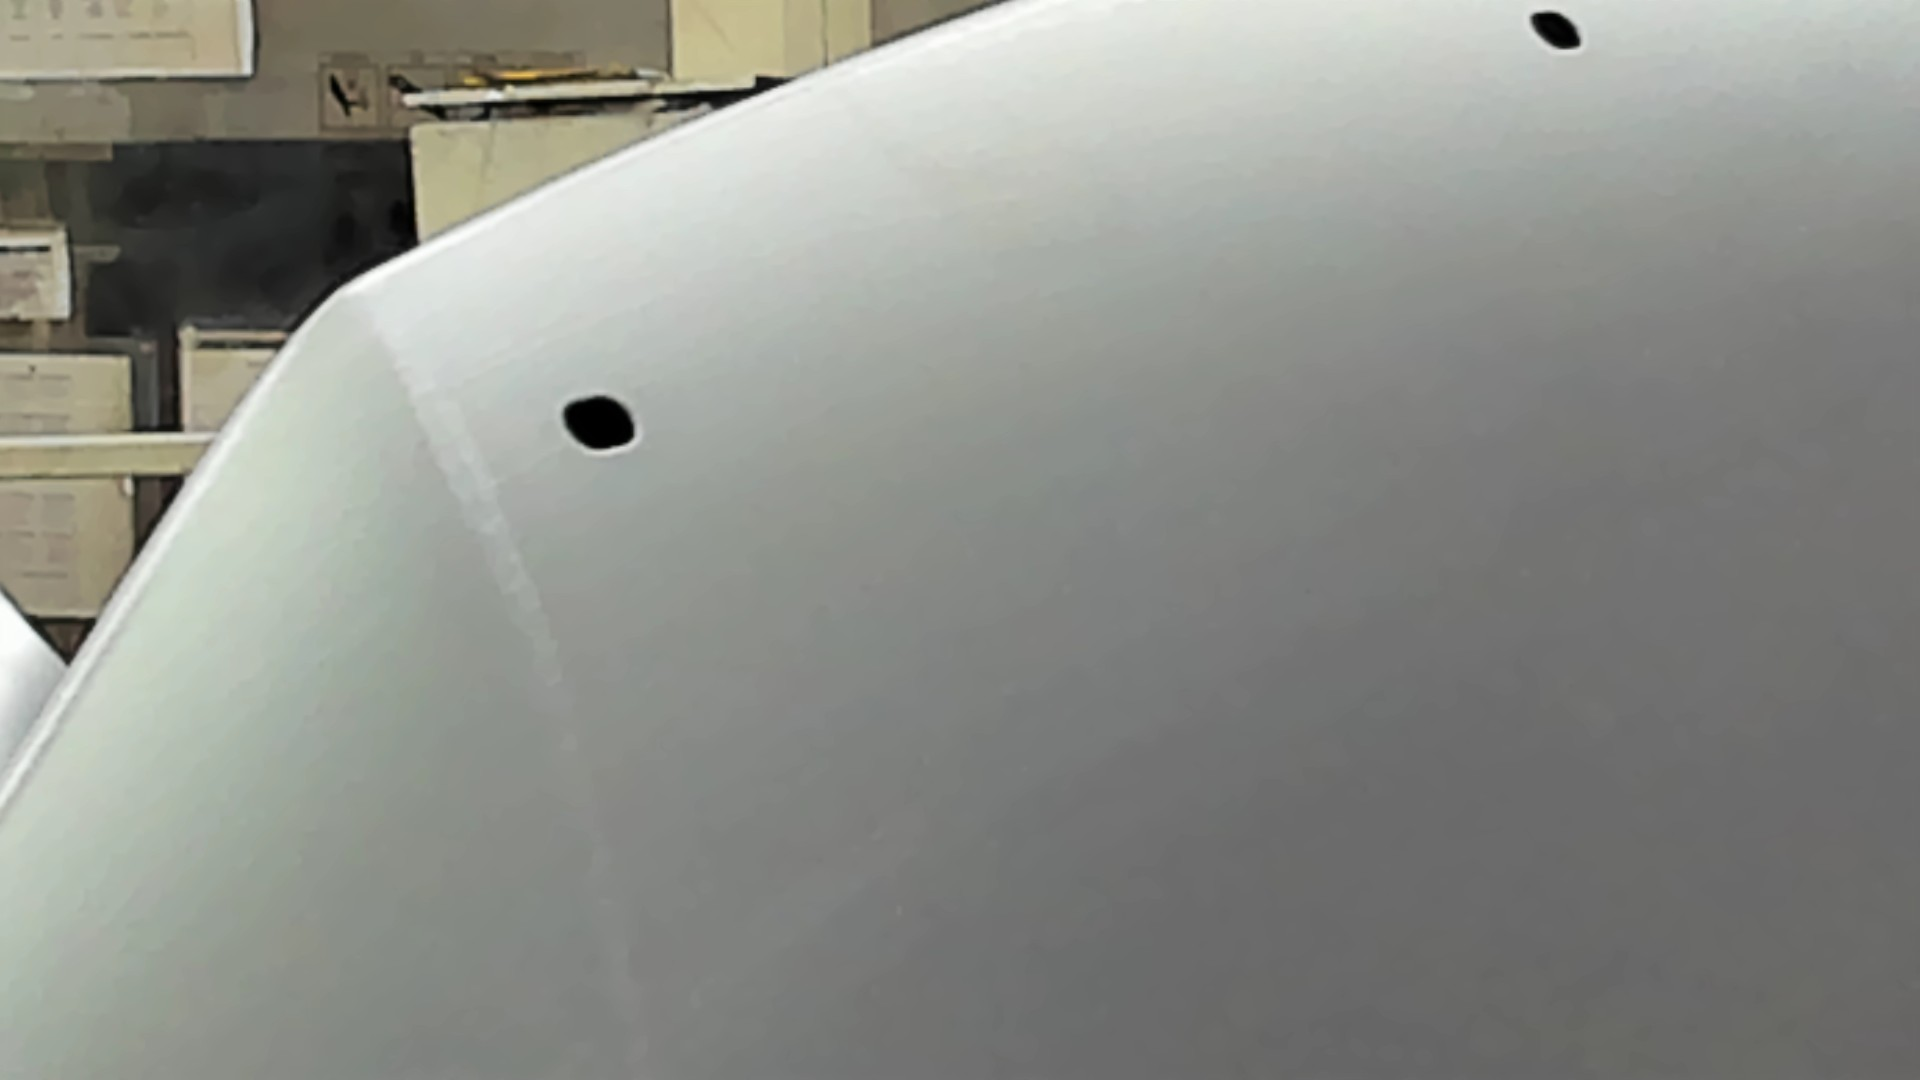amorfo: (554, 386, 645, 458), (1523, 4, 1586, 58)
capo: (752, 131, 1920, 1080)
